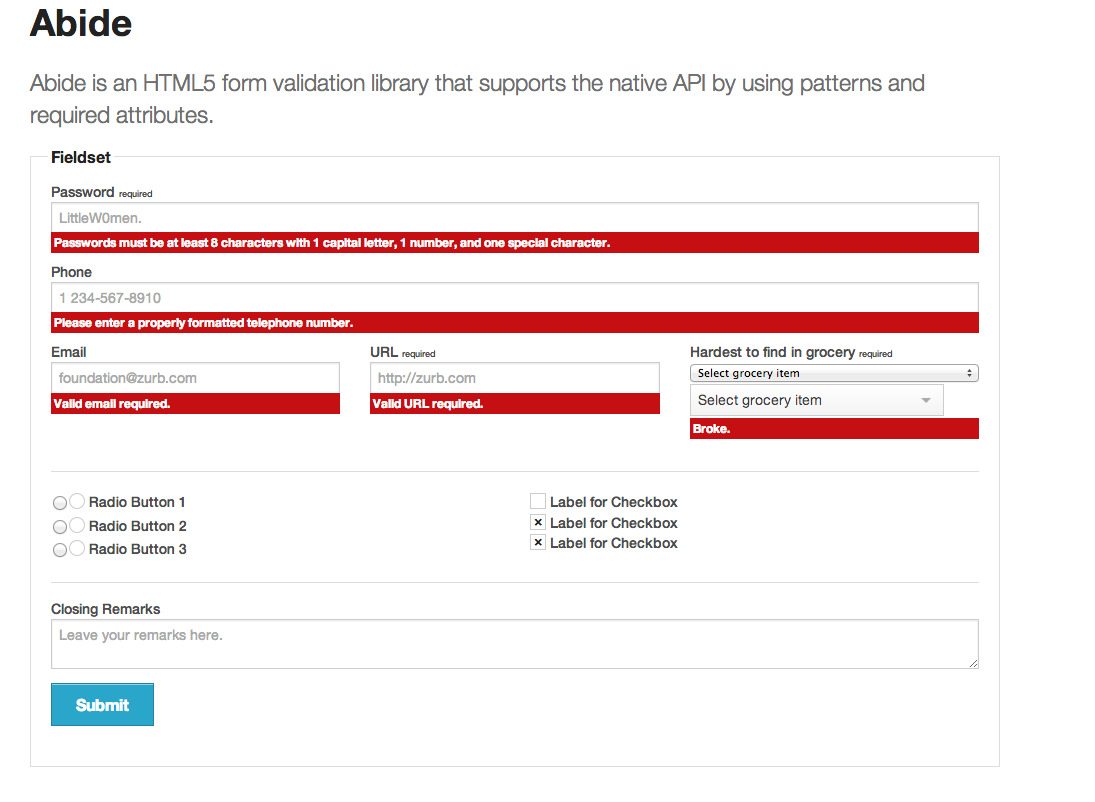error_message: (52, 234, 611, 250), (53, 315, 358, 330), (50, 394, 173, 413), (371, 394, 486, 412), (691, 421, 731, 436)
